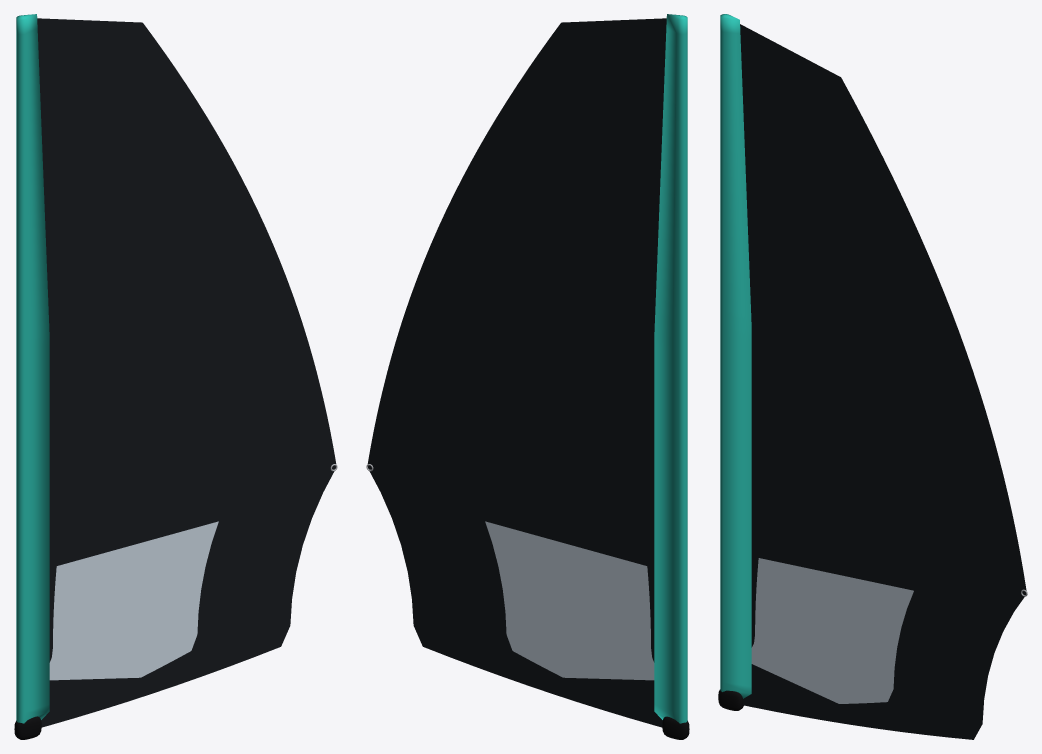
The model's file is tripletone_slalom_8_5.glb.
3 views of the same model, side by side, from view 1: azimuth 30°, elevation 25°; view 2: azimuth 150°, elevation 25°; view 3: azimuth 330°, elevation 25° (orthographic). The views are drawn at different scales.
Parts seen in each view (by area): view 1: SailCloth; view 2: SailCloth; view 3: SailCloth.
Part boxes in pixels (x1,y1,x2,y2): SailCloth: [16, 14, 336, 727]; SailCloth: [367, 14, 687, 727]; SailCloth: [720, 14, 1026, 739].
Bounding box in the file's own units: 2.33 × 5.01 × 0.08.
